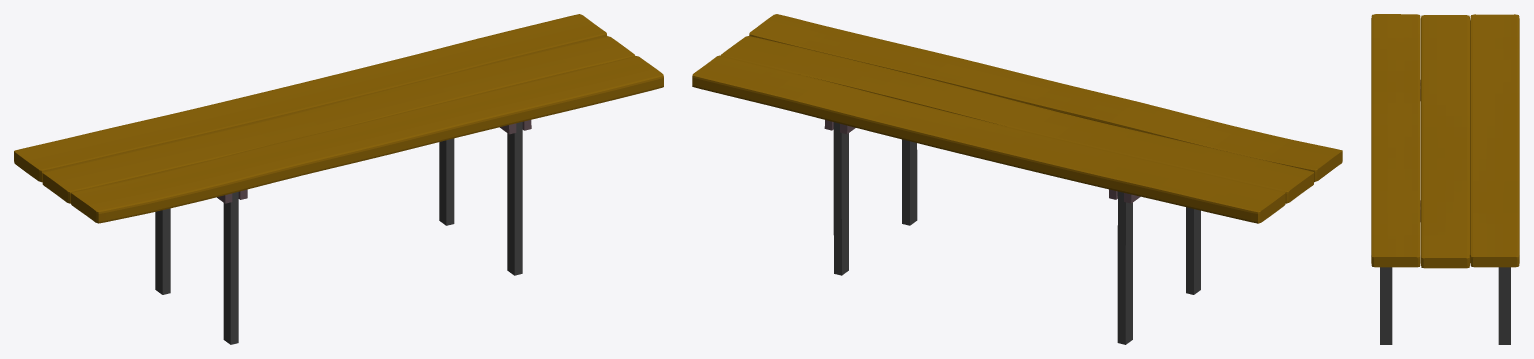
Rendered from table.fbx.
The picture shows the model from 3 angles, left to right: view 1: azimuth 30°, elevation 25°; view 2: azimuth 150°, elevation 25°; view 3: azimuth 270°, elevation 25°; orthographic projection. The views are drawn at different scales.
Parts seen in each view (by area): view 1: Planche.002; view 2: Planche.002; view 3: Planche.002.
Part boxes in pixels (left/top/right/bottom): Planche.002: left=14, top=14, right=663, bottom=344; Planche.002: left=692, top=14, right=1342, bottom=344; Planche.002: left=1371, top=14, right=1519, bottom=344.
Size of the model in its own units: 651 by 186 by 169.
